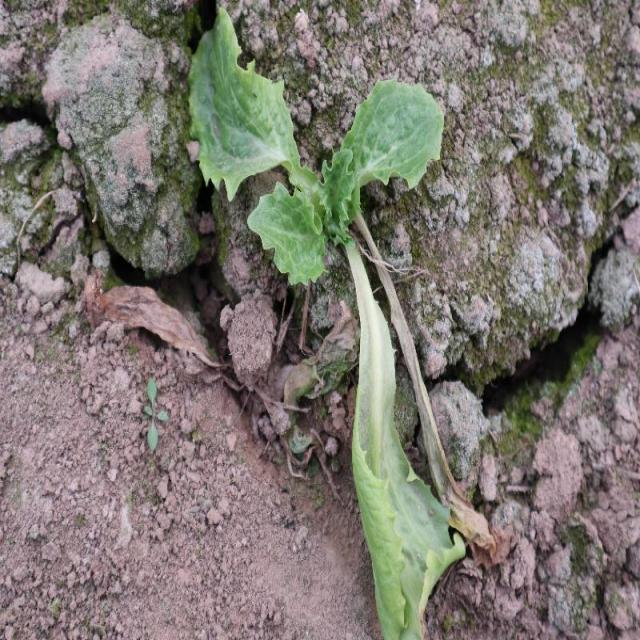crop: (189, 7, 467, 640)
